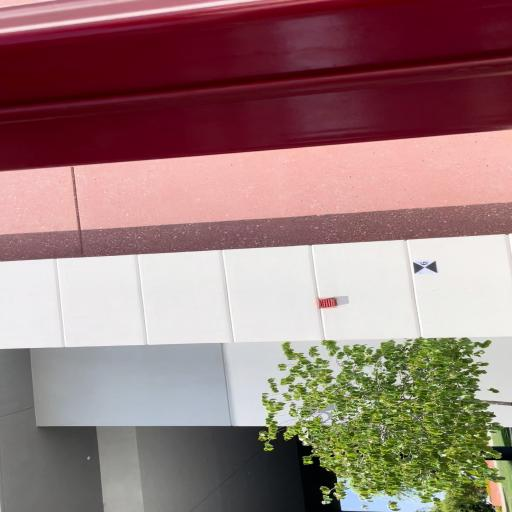target6: (413, 260, 439, 274)
